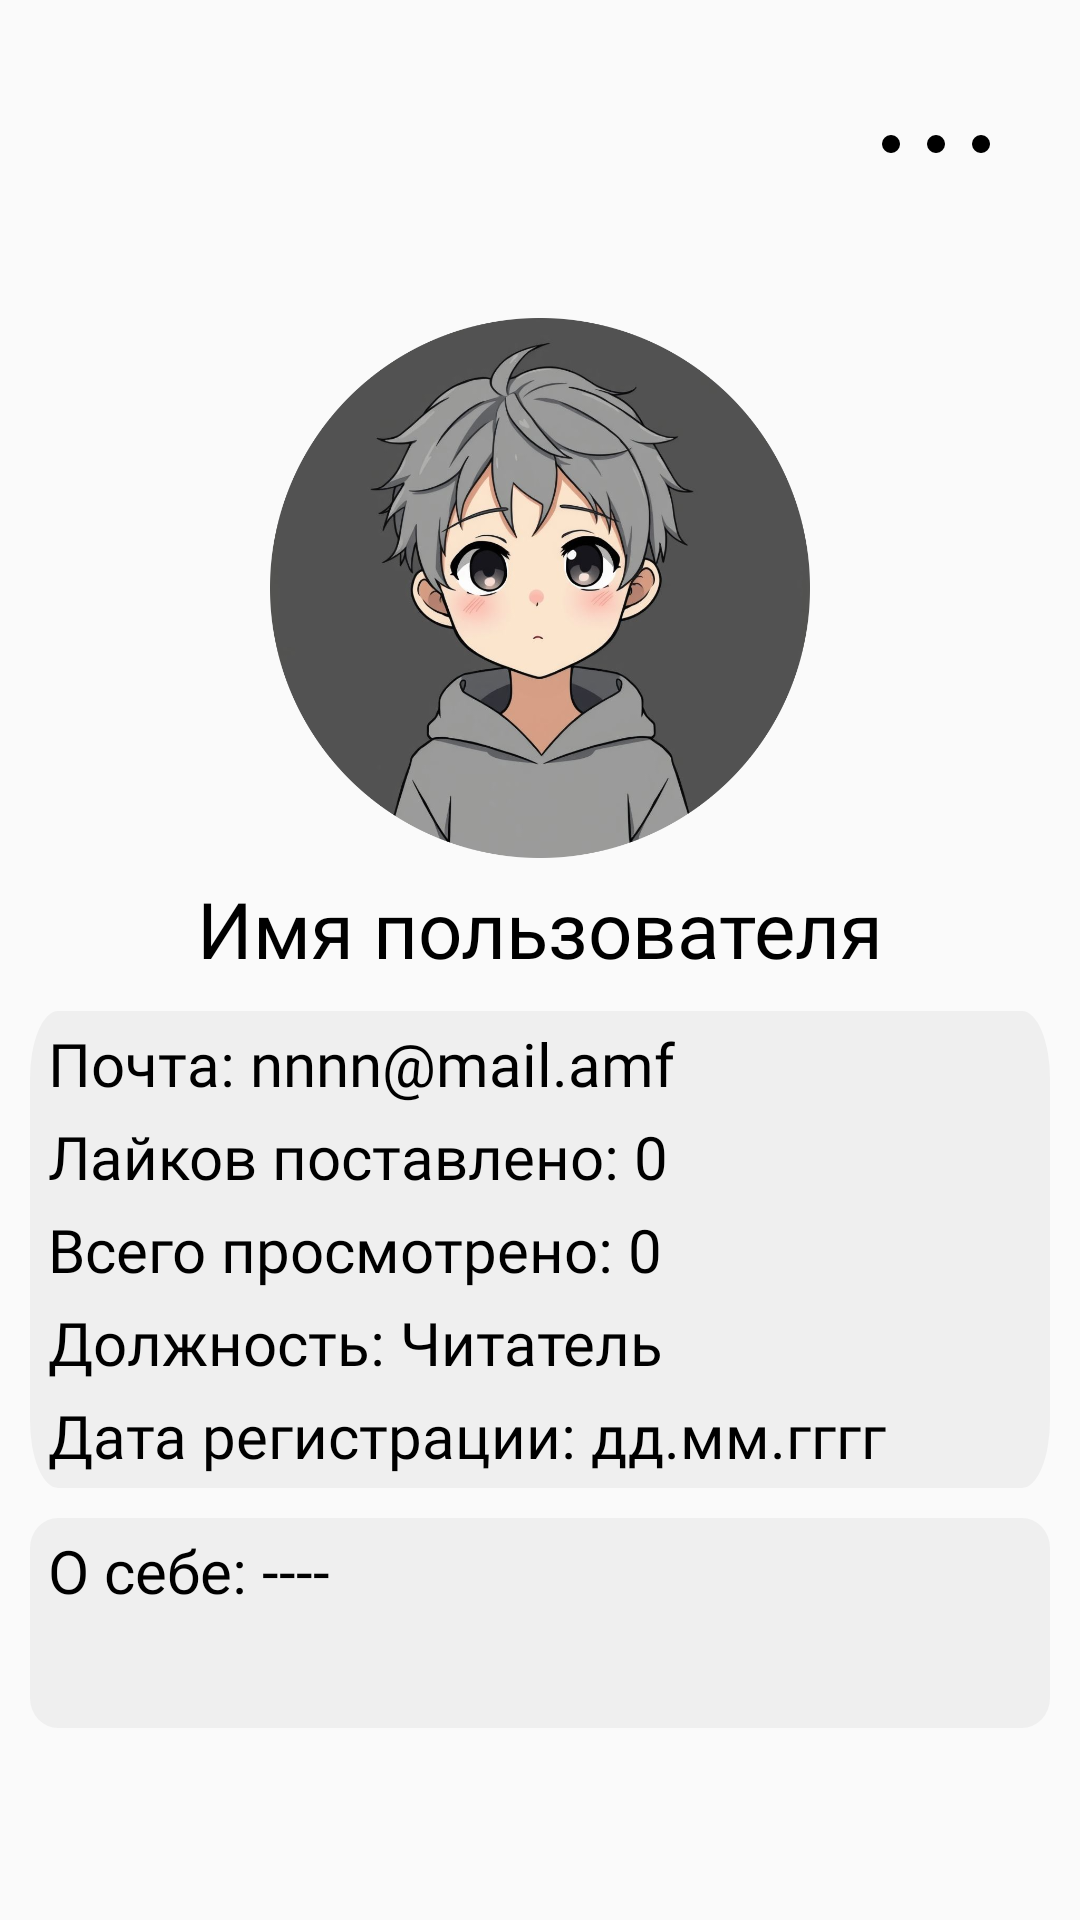

Icons on this 1080px×1920px Android screen, each with its box as box=[x1, y1, x2, y2]:
Открыть меню профиля: box=[882, 135, 990, 153]
